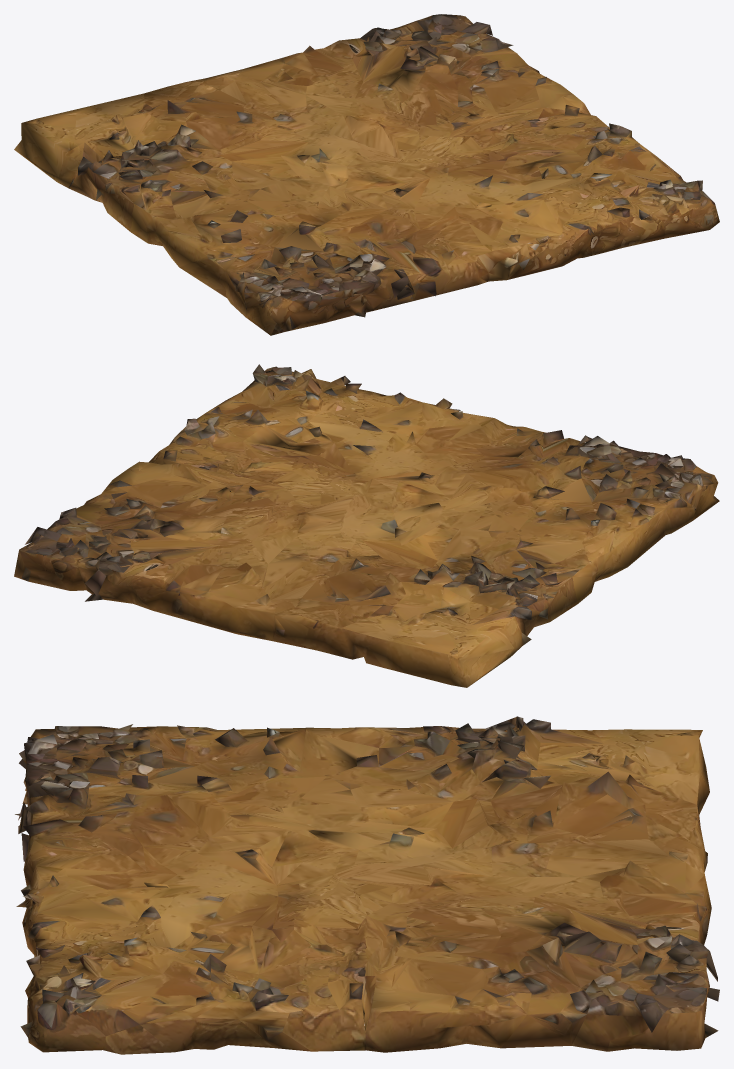
Rendered from gnd_desert_gravel.fbx.
3 views of the same model, one above another, from view 1: azimuth 30°, elevation 25°; view 2: azimuth 150°, elevation 25°; view 3: azimuth 270°, elevation 25° (orthographic). The views are drawn at different scales.
Visible parts, largest first — view 1: gnd_desert_gravel_LOD0; view 2: gnd_desert_gravel_LOD0; view 3: gnd_desert_gravel_LOD0.
Boxes of the visible parts, <box> form: gnd_desert_gravel_LOD0: <box>14,14,719,335</box>; gnd_desert_gravel_LOD0: <box>14,364,719,687</box>; gnd_desert_gravel_LOD0: <box>15,716,719,1054</box>.
Size of what is drawn, in the model's own units: 0.9795 by 0.106 by 0.9746.
